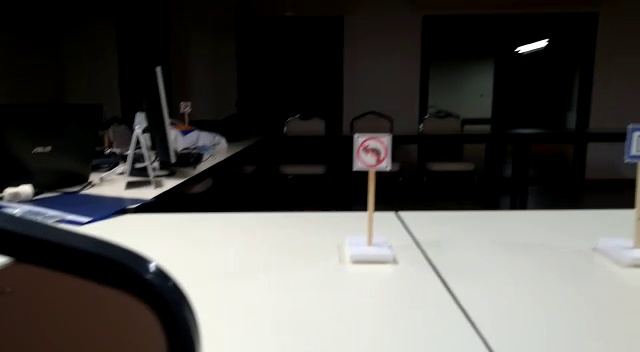sola_donulmez: (352, 133, 394, 171)
